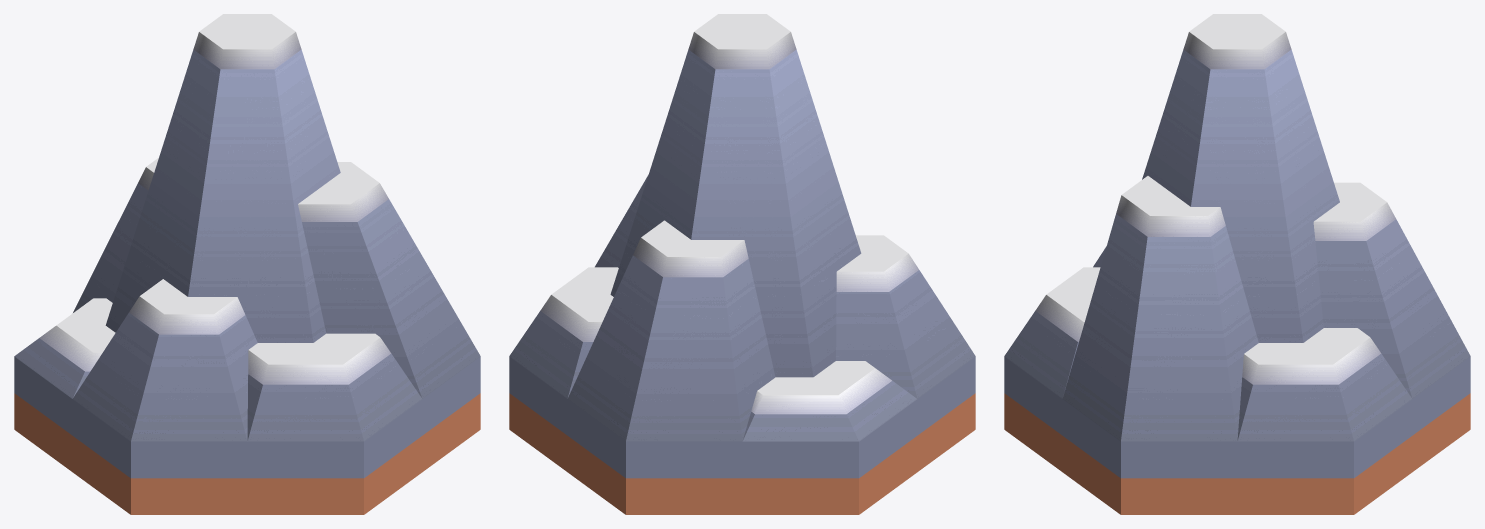
The model's file is stone-mountain.glb.
The picture shows the model from 3 angles, left to right: view 1: azimuth 30°, elevation 25°; view 2: azimuth 150°, elevation 25°; view 3: azimuth 270°, elevation 25°; orthographic projection.
Parts seen in each view (by area): view 1: stone-mountain; view 2: stone-mountain; view 3: stone-mountain.
Boxes of the visible parts, box(x1,y1,x2,y2) form: stone-mountain: box(14, 14, 480, 514); stone-mountain: box(509, 14, 975, 514); stone-mountain: box(1004, 14, 1470, 514).
Bounding box in the file's own units: 1 × 1.09 × 1.15.
Materials: 1 (1 with a texture image).
